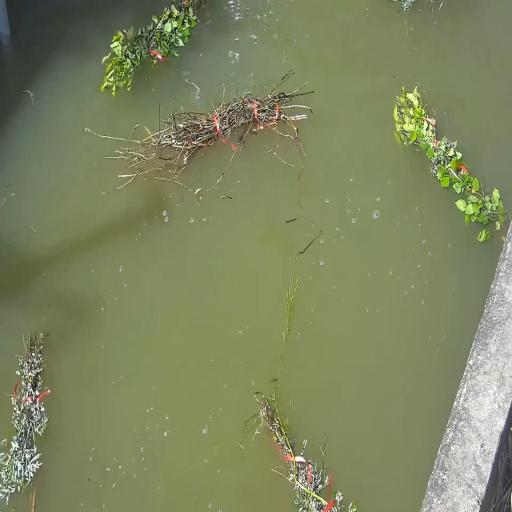twig: (88, 84, 312, 188), (393, 87, 505, 231), (253, 386, 342, 512), (100, 0, 197, 96), (0, 332, 49, 503), (273, 280, 297, 382)
